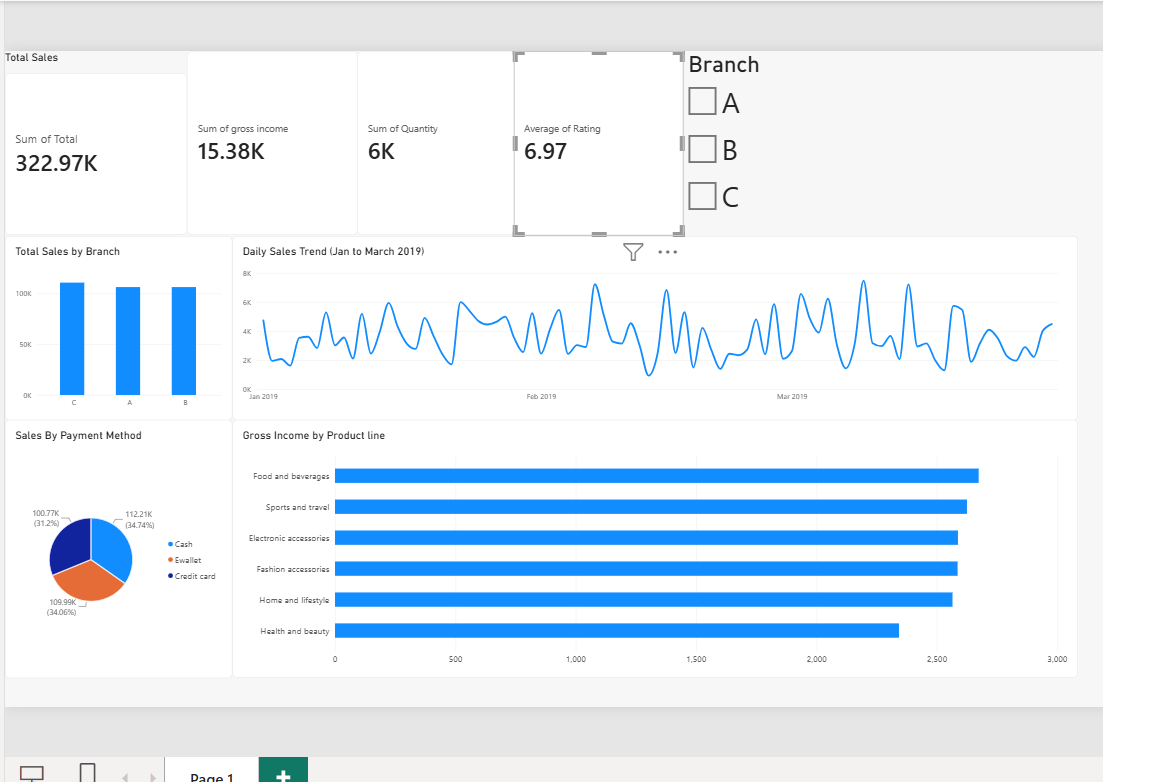

This screenshot's page, from the dashboard's own definition file:
{"tool":"powerbi","page":{"name":"Page 1","canvas":[1920,1080],"ordinal":0},"visuals":[{"type":"clusteredColumnChart","title":"Total Sales by Branch","fields":{"Category":["supermarket_sales.Branch"],"Y":["Sum(supermarket_sales.Total)"]},"box":[0,303.6,374.5,303.6],"z":0},{"type":"lineChart","title":"Daily Sales Trend (Jan to March 2019)","fields":{"Category":["supermarket_sales.Date"],"Y":["Sum(supermarket_sales.Total)"]},"box":[375,303.8,1392.3,303.8],"z":1},{"type":"pieChart","title":"Sales By Payment Method","fields":{"Category":["supermarket_sales.Payment"],"Y":["Sum(supermarket_sales.Total)"]},"box":[0,607.3,374.5,425.5],"z":2},{"type":"slicer","fields":{"Values":["supermarket_sales.Branch"]},"box":[1117.3,0,665.4,303.8],"z":3},{"type":"cardVisual","title":"Total Sales","fields":{"Data":["Sum(supermarket_sales.Total)"]},"box":[0,0,300,303.6],"z":4},{"type":"cardVisual","fields":{"Data":["Sum(supermarket_sales.gross income)"]},"box":[300,0,280,303.6],"z":5},{"type":"cardVisual","fields":{"Data":["Sum(supermarket_sales.Quantity)"]},"box":[580,0,280,303.6],"z":6},{"type":"cardVisual","fields":{"Data":["Avg(supermarket_sales.Rating)"]},"box":[838.2,0,280,303.6],"z":7},{"type":"clusteredBarChart","title":"Gross Income by Product line","fields":{"Category":["supermarket_sales.Product line"],"Y":["Sum(supermarket_sales.gross income)"]},"box":[375,607.7,1392.3,425],"z":8}]}

Visuals, with their boxes on the page's 1920x1080 design canvas (x1, y1, x2, y2). These are canvas units, not pixel positions in the 1152x782 screenshot, which may show the page scaled, cropped or inside an application window:
"Total Sales by Branch" clusteredColumnChart: Rect(0, 304, 374, 607)
"Daily Sales Trend (Jan to March 2019)" lineChart: Rect(375, 304, 1767, 608)
"Sales By Payment Method" pieChart: Rect(0, 607, 374, 1033)
slicer - supermarket_sales.Branch: Rect(1117, 0, 1783, 304)
"Total Sales" cardVisual: Rect(0, 0, 300, 304)
cardVisual - Sum(supermarket_sales.gross income): Rect(300, 0, 580, 304)
cardVisual - Sum(supermarket_sales.Quantity): Rect(580, 0, 860, 304)
cardVisual - Avg(supermarket_sales.Rating): Rect(838, 0, 1118, 304)
"Gross Income by Product line" clusteredBarChart: Rect(375, 608, 1767, 1033)
